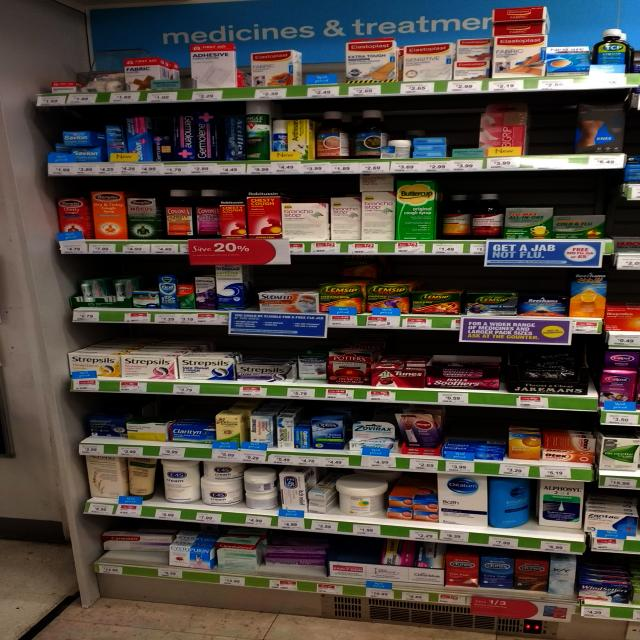empty_space: (525, 100, 573, 153), (304, 46, 344, 74)
